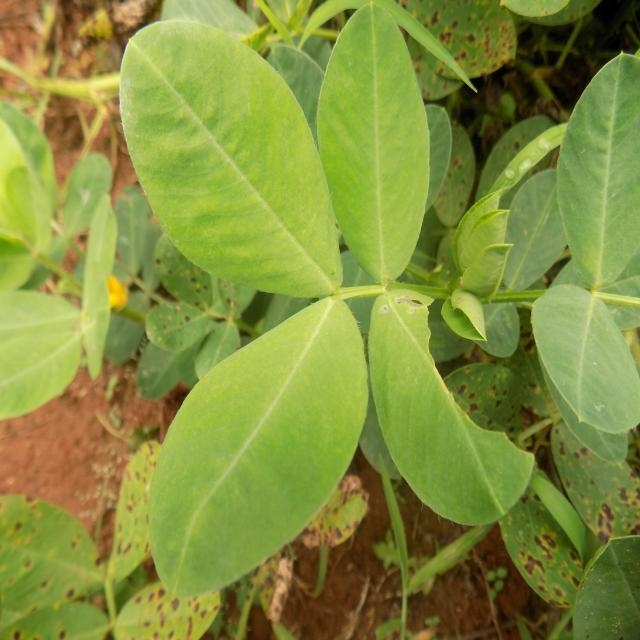Ground nut_healthy: (119, 13, 346, 307), (146, 302, 372, 590)
Ground nut_tikka leaf spot: (500, 477, 590, 605)
